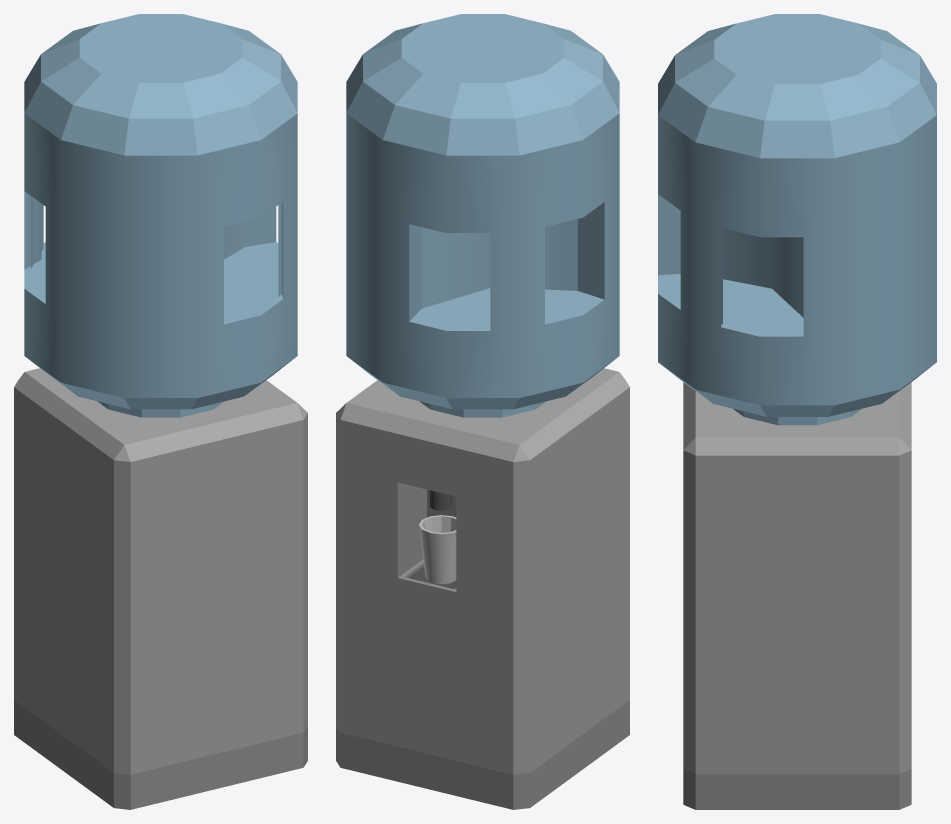
Rendered from WaterCooler.FBX.
3 views of the same model, side by side, from view 1: azimuth 30°, elevation 25°; view 2: azimuth 150°, elevation 25°; view 3: azimuth 270°, elevation 25° (orthographic).
Parts seen in each view (by area): view 1: WaterCooler; view 2: WaterCooler; view 3: WaterCooler.
Boxes of the visible parts, x1,y1,x2,y2 form: WaterCooler: (14,14,307,809); WaterCooler: (336,14,629,809); WaterCooler: (658,14,936,809).
Size of the model in its own units: 42.58 by 120 by 42.58.
